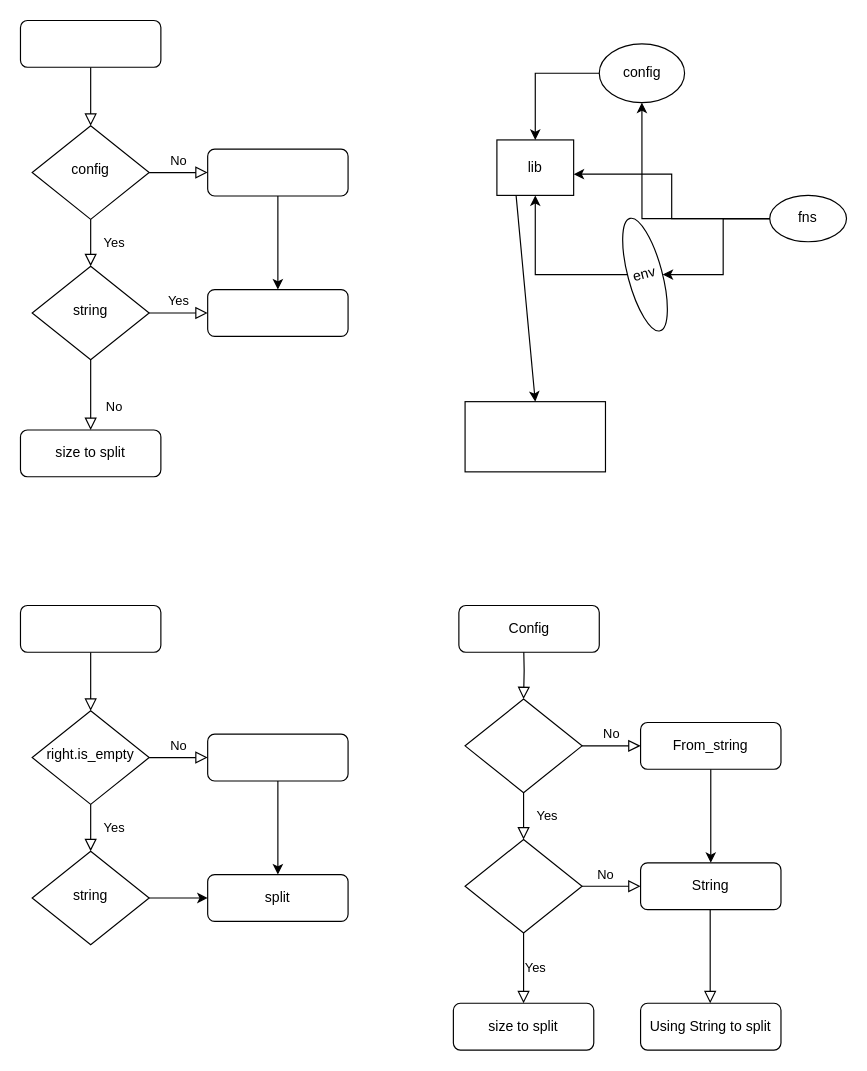
Some shapes in this 867 by 1071 pixel diagram are drawn without their labels. The shapes that lost their labels are listed below. From the top down, each one's centre as x and y in pixels, then its label:
At (x=90, y=43): "Initial".
At (x=277, y=172): "reading".
At (x=277, y=312): "split strings".
At (x=534, y=436): "main".
At (x=90, y=628): "dim".
At (x=277, y=757): "get middle string".
At (x=523, y=745): "default".
At (x=523, y=885): "length".
